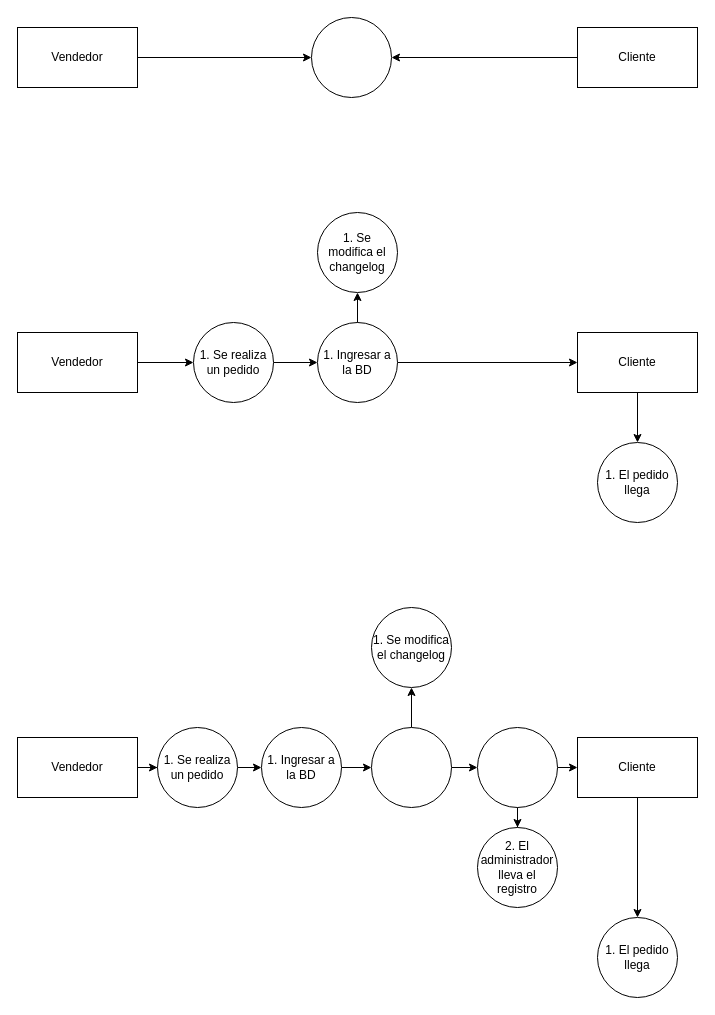
Image size: 715x1015. Some labels were removed from this diagram. The centre of each missing label's shape, as x and y in pixels:
2. Se envía el pedido: the point at 517,767
2. Se modifica la BD: the point at 411,767
Sistema de BD: the point at 351,57
